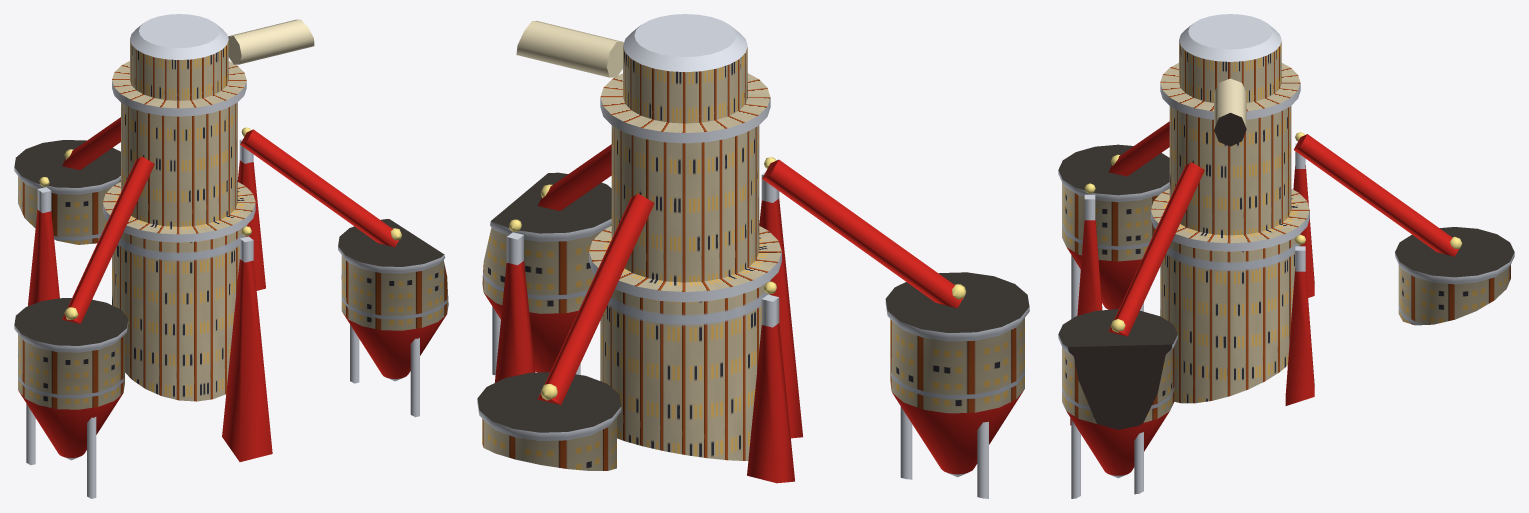
Rendered from mining_facility_debris1.obj.
3 renders of one model, left to right at view 1: azimuth 30°, elevation 25°; view 2: azimuth 150°, elevation 25°; view 3: azimuth 270°, elevation 25°, orthographic. The views are drawn at different scales.
Parts seen in each view (by area): view 1: tower, hopper, derrick, conveyor, leg, dock_arm; view 2: tower, hopper, conveyor, derrick, dock_arm, leg; view 3: tower, hopper, conveyor, derrick, dock_arm, leg.
Part boxes in pixels (left/top/right/bottom): tower: left=103, top=14, right=255, bottom=401; hopper: left=14, top=140, right=448, bottom=460; derrick: left=28, top=139, right=272, bottom=461; conveyor: left=62, top=117, right=398, bottom=323; leg: left=26, top=325, right=419, bottom=498; dock_arm: left=228, top=19, right=314, bottom=64; tower: left=589, top=14, right=781, bottom=460; hopper: left=477, top=172, right=1029, bottom=477; conveyor: left=537, top=144, right=962, bottom=404; derrick: left=495, top=172, right=802, bottom=483; dock_arm: left=516, top=20, right=623, bottom=77; leg: left=492, top=306, right=988, bottom=498; tower: left=1151, top=14, right=1309, bottom=403; hopper: left=1058, top=144, right=1514, bottom=478; conveyor: left=1108, top=121, right=1458, bottom=336; derrick: left=1070, top=143, right=1314, bottom=425; dock_arm: left=1214, top=78, right=1246, bottom=146; leg: left=1071, top=255, right=1143, bottom=498.
Bounding box in the file's own units: 107 × 91.26 × 97.6.
Materials: 7 (1 with a texture image).
